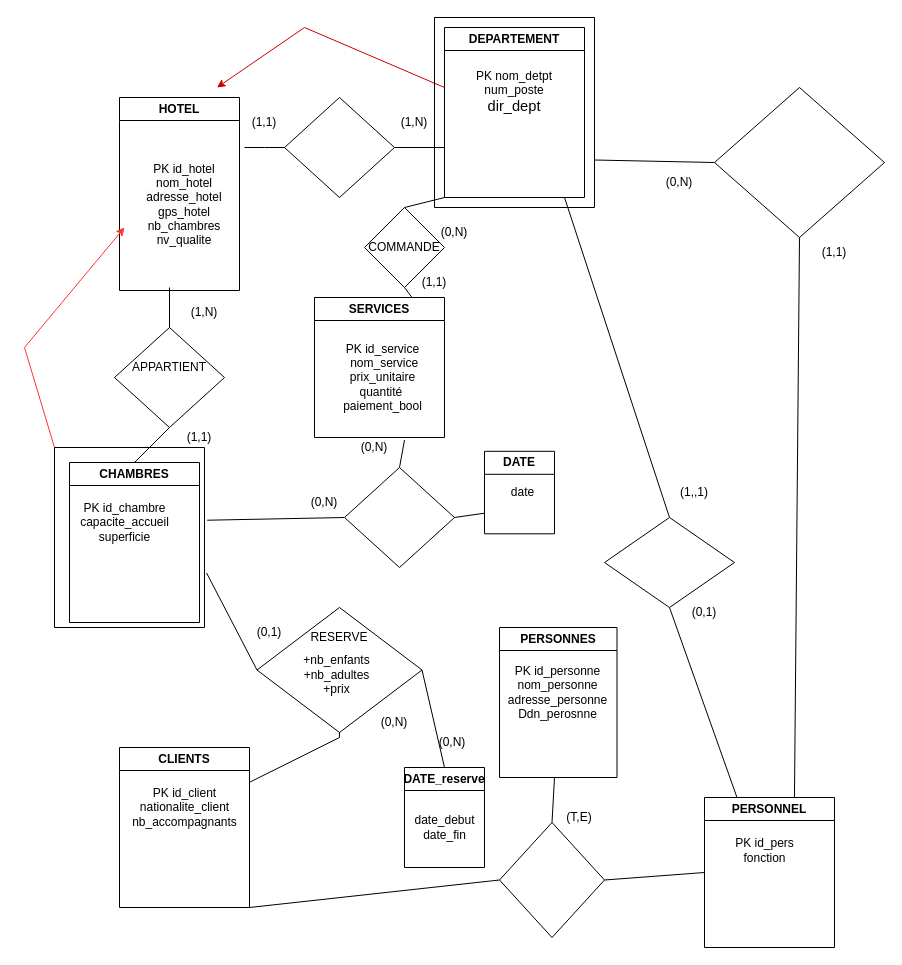
This 902x965 diagram has some shape labels left out. Each missing label, with the centre of its shape:
ACHETE: (x=399, y=517)
DIRIGE: (x=669, y=562)
IS_A: (x=551, y=880)
POSSEDE: (x=339, y=147)
TRAVAILLE: (x=799, y=162)
